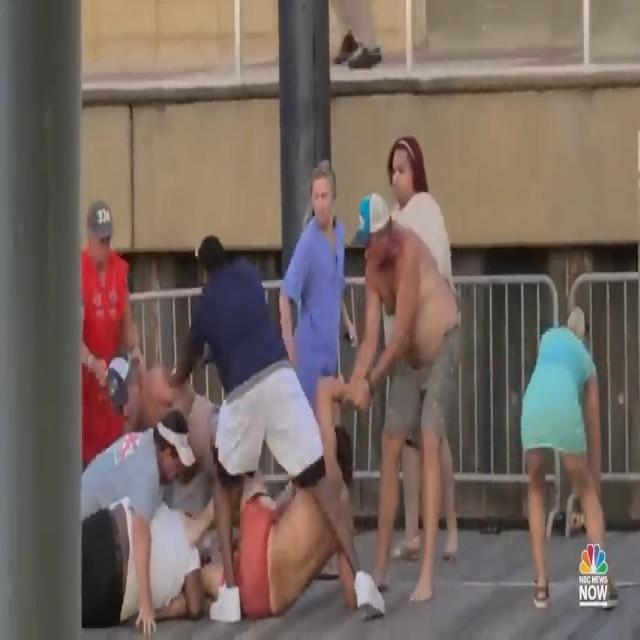fight: (207, 194, 459, 640), (79, 341, 387, 640)
